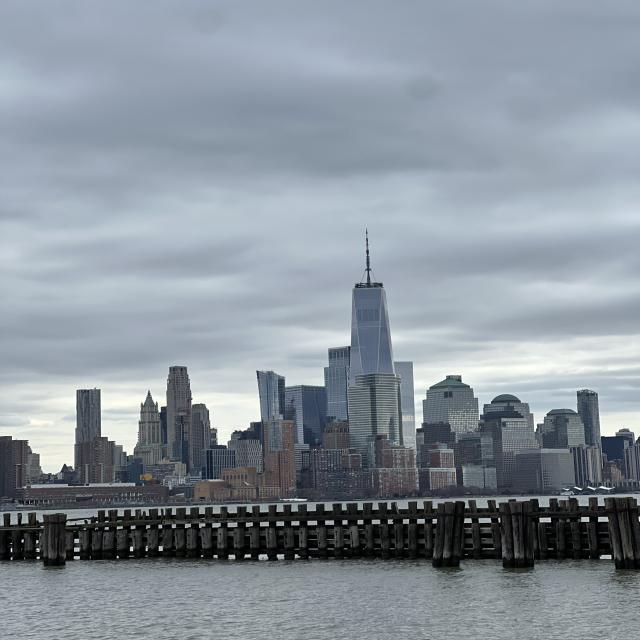WTC: (347, 230, 394, 356)
